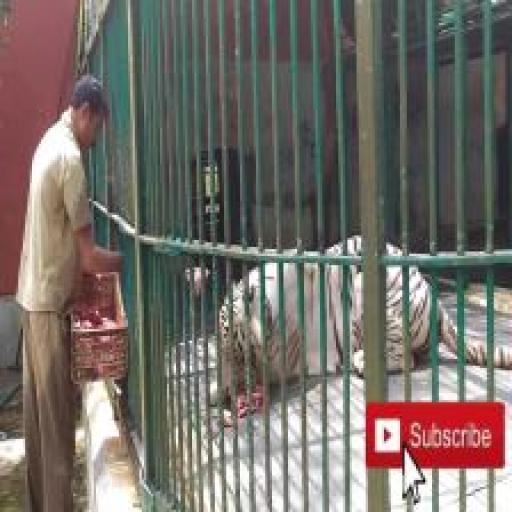Tiger: (203, 233, 512, 412)
